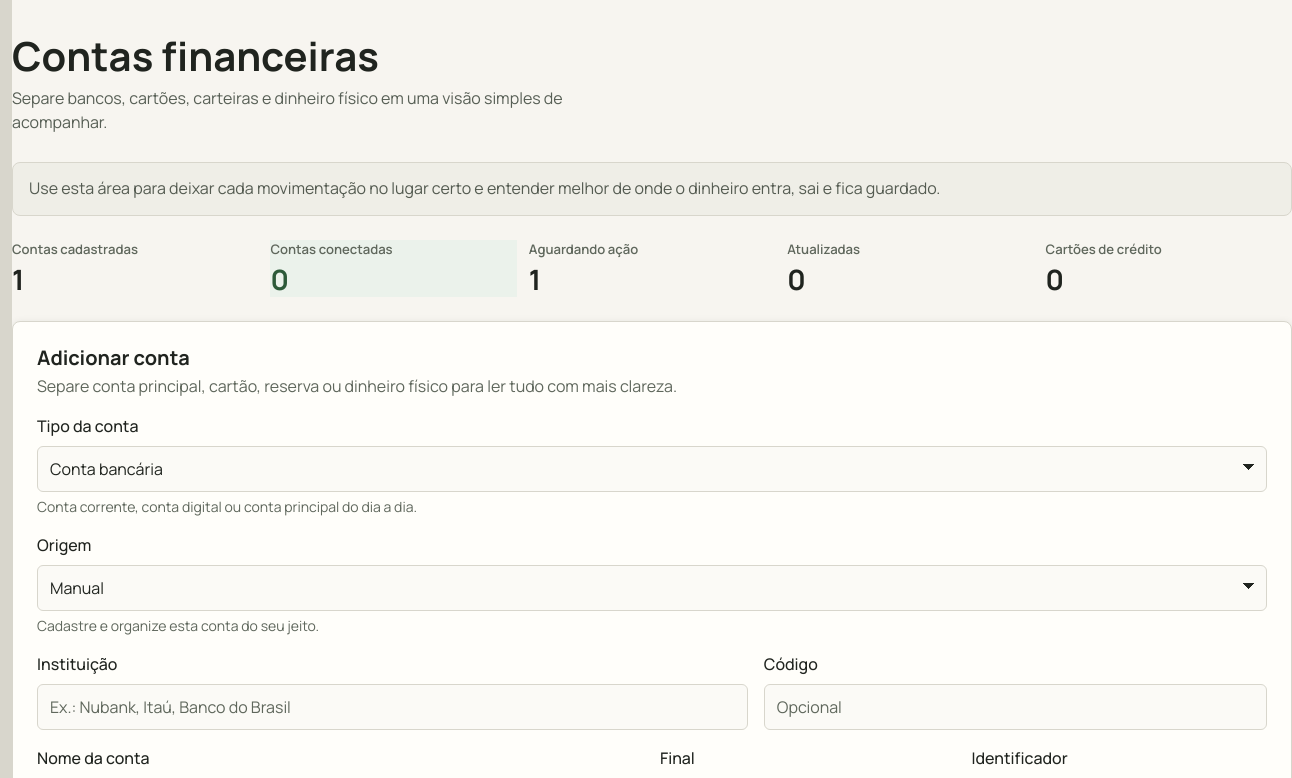
Test: FinancialAccounts page › creates a new manual financial account
Type "Banco Inter" into the field labelled "Instituição" at (392, 707), box [37, 684, 748, 730]
(page scrolled)
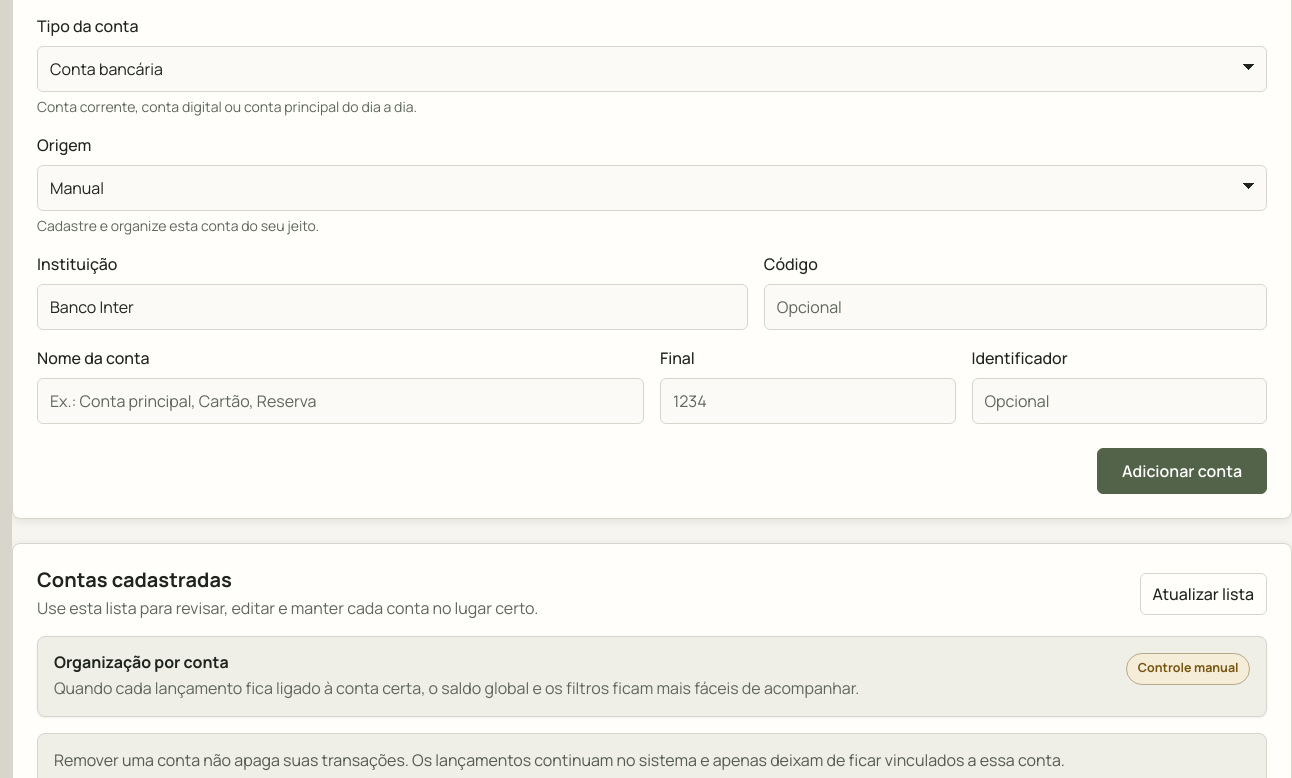
Type "Reserva" into the field labelled "Nome da conta" at (340, 401), box [37, 378, 644, 424]
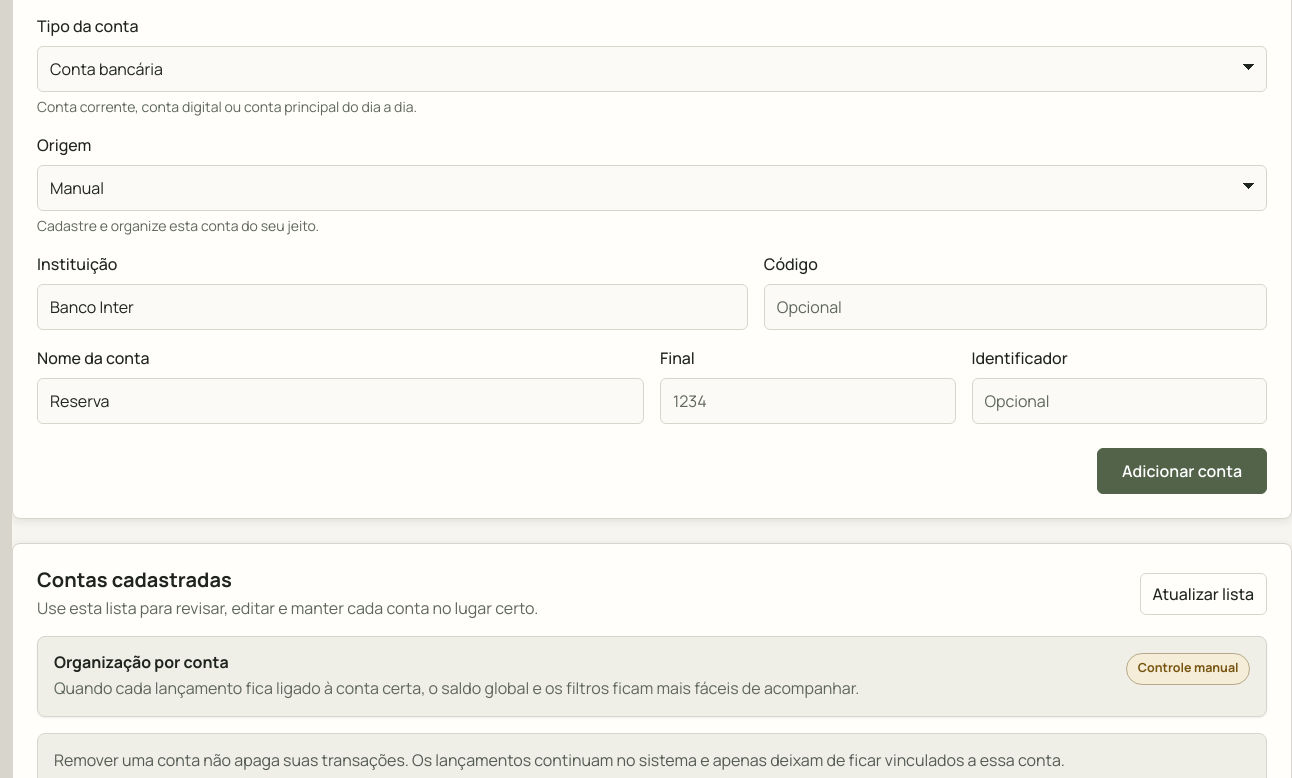
Type "4321" into the field labelled "Final" at (808, 401), box [660, 378, 956, 424]
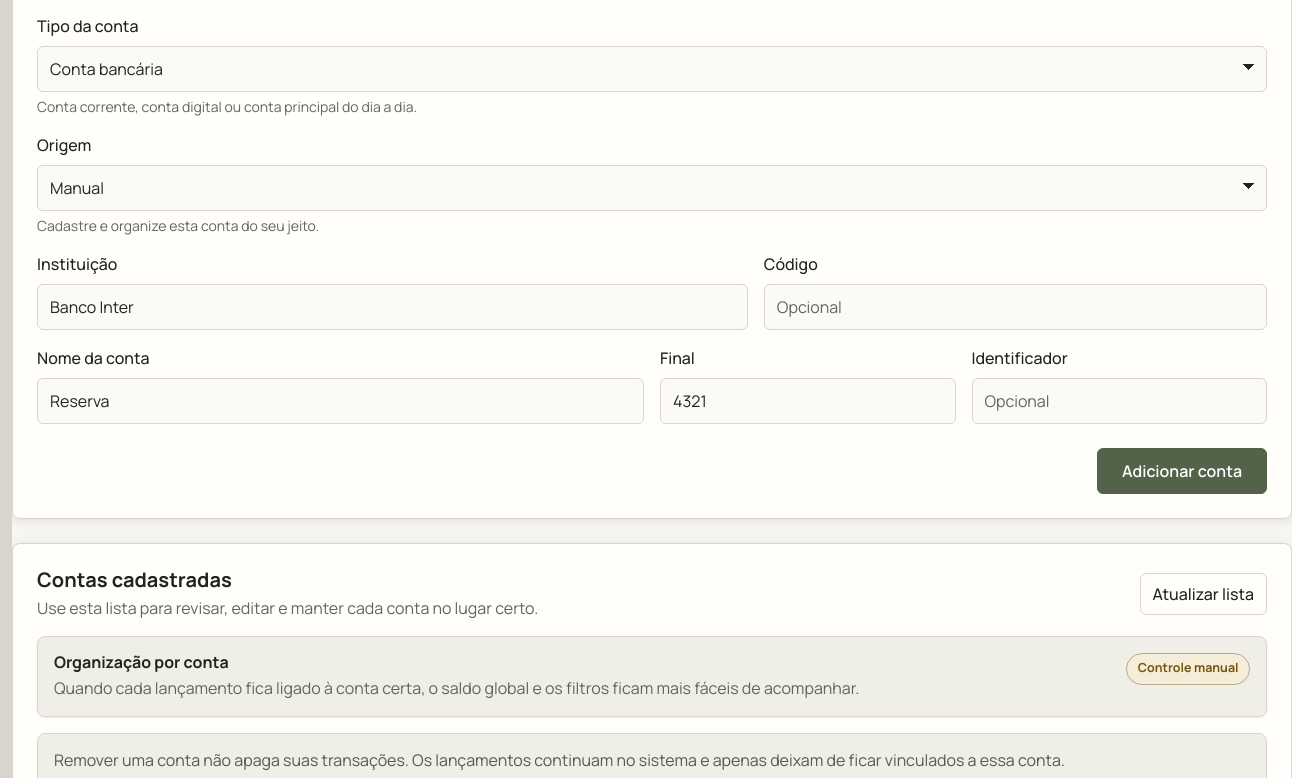
Click the button "Adicionar conta" at (1182, 471), box [1097, 448, 1267, 494]
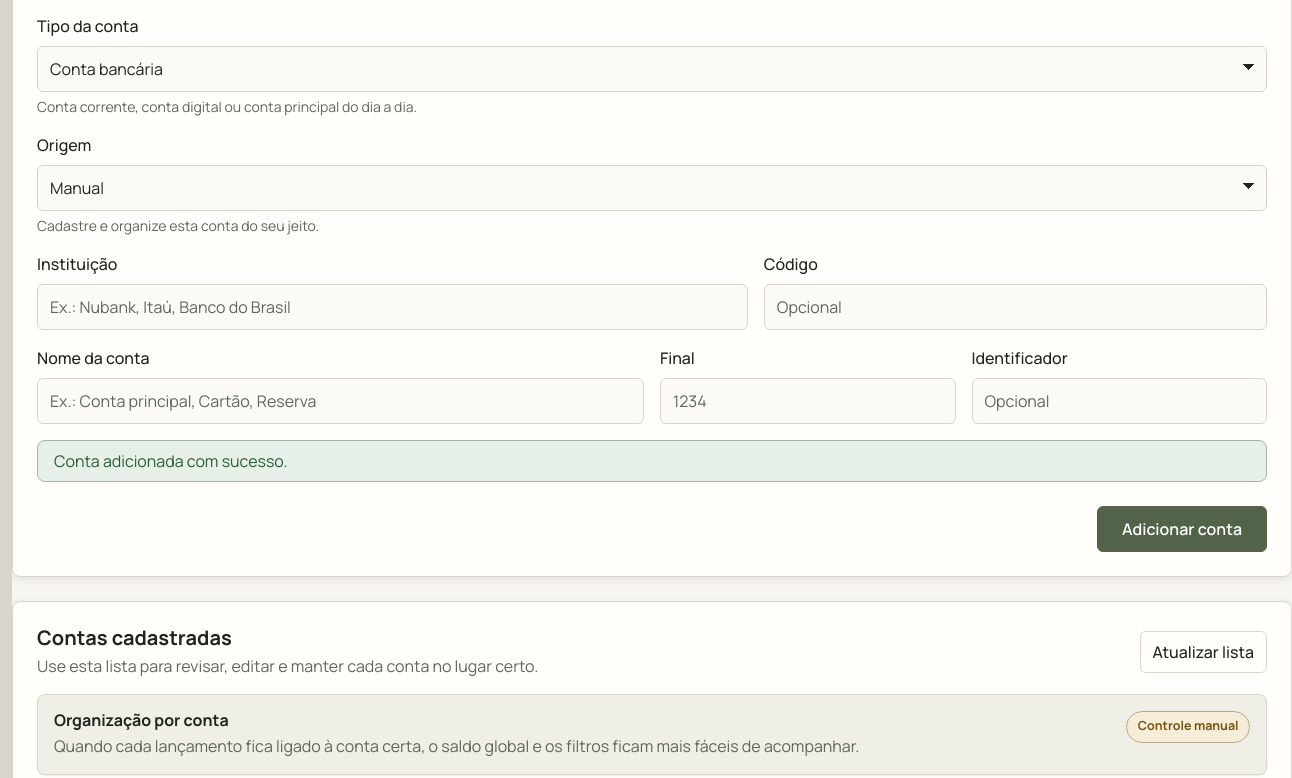
Check: the text "Conta adicionada com sucesso." is shown, box [37, 440, 1267, 482]
